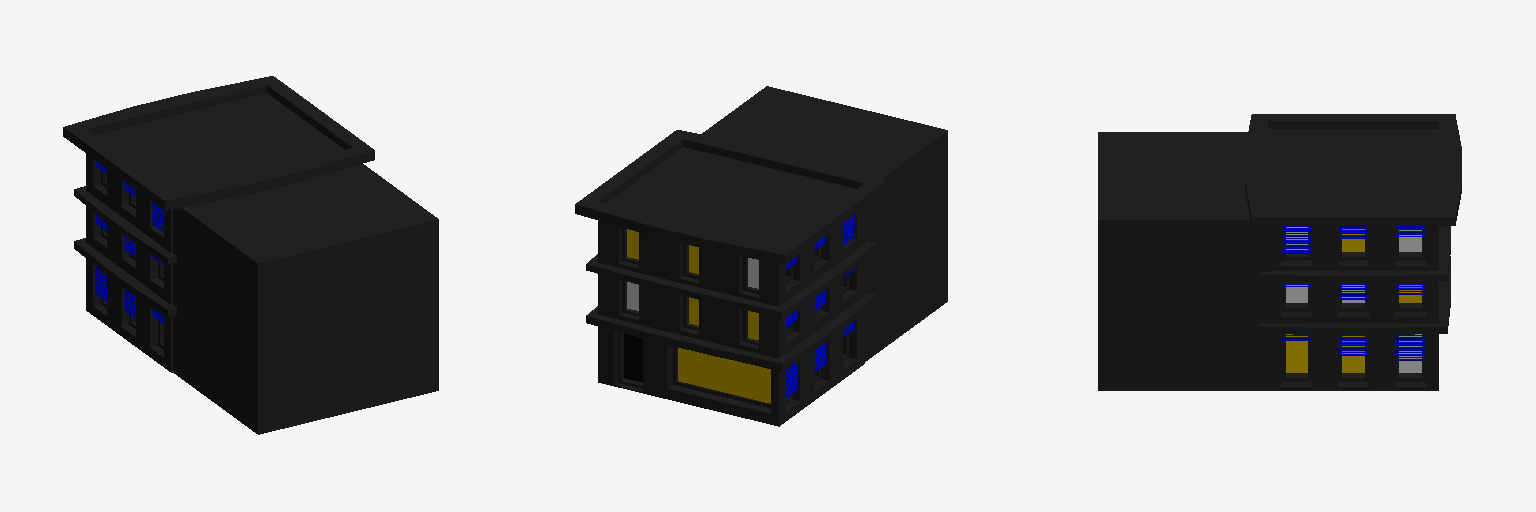
The model's file is basic-apartment.obj.
3 views of the same model, side by side, from view 1: azimuth 30°, elevation 25°; view 2: azimuth 150°, elevation 25°; view 3: azimuth 270°, elevation 25° (orthographic).
Parts seen in each view (by area): view 1: ApartmentBuildingBack_Cube.071, Cube.044_Cube.070; view 2: Cube.044_Cube.070, ApartmentBuildingBack_Cube.071; view 3: Cube.044_Cube.070, ApartmentBuildingBack_Cube.071, Vert.203_Vert.215, Vert.209_Vert.221.
Part boxes in pixels (left/top/right/bottom): ApartmentBuildingBack_Cube.071: left=173, top=164, right=438, bottom=434; Cube.044_Cube.070: left=63, top=76, right=374, bottom=372; Cube.044_Cube.070: left=575, top=130, right=886, bottom=426; ApartmentBuildingBack_Cube.071: left=702, top=86, right=947, bottom=361; Cube.044_Cube.070: left=1245, top=114, right=1461, bottom=390; ApartmentBuildingBack_Cube.071: left=1098, top=132, right=1267, bottom=390; Vert.203_Vert.215: left=1283, top=226, right=1310, bottom=253; Vert.209_Vert.221: left=1395, top=335, right=1424, bottom=360.
Size of the model in its own units: 13.49 by 11.1 by 20.29.